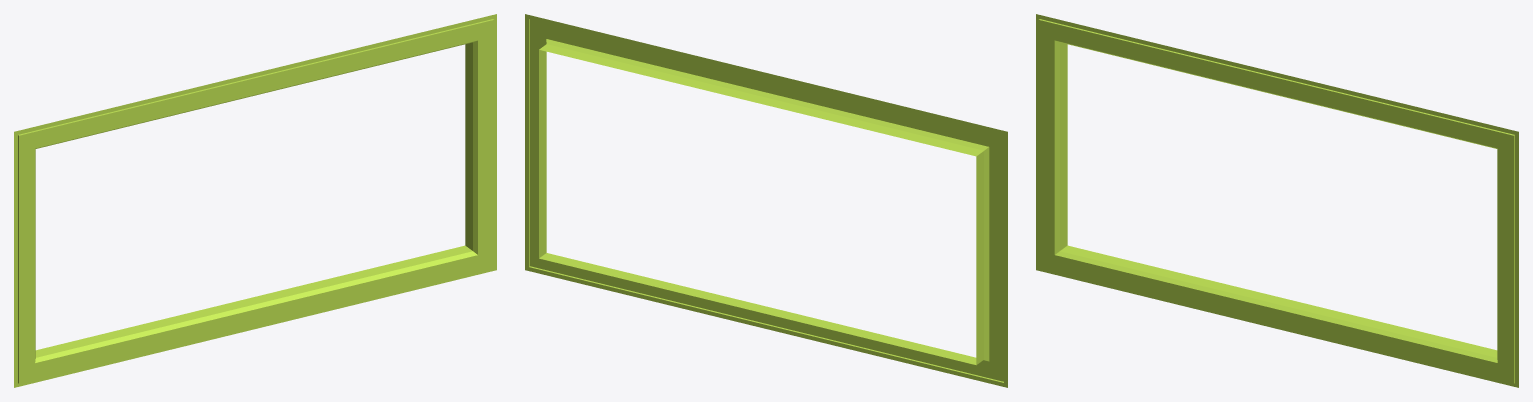
Rendered from Window_S1.FBX.
3 renders of one model, left to right at view 1: azimuth 30°, elevation 25°; view 2: azimuth 150°, elevation 25°; view 3: azimuth 330°, elevation 25°, orthographic.
Parts seen in each view (by area): view 1: Window_S1; view 2: Window_S1; view 3: Window_S1.
Part boxes in pixels (x1,y1,x2,y2): Window_S1: (14,14,496,387); Window_S1: (525,14,1007,387); Window_S1: (1036,14,1518,387).
Bounding box in the file's own units: 134 × 68.16 × 4.83.
